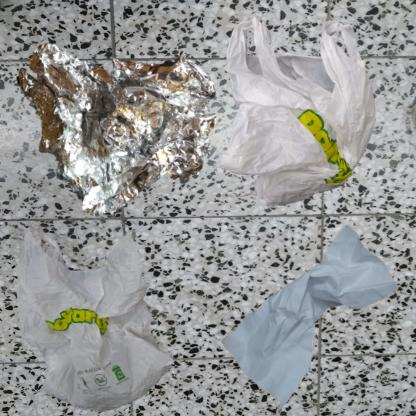aluminio: (10, 10, 243, 235)
bolsa: (213, 10, 387, 219), (10, 213, 181, 416)
papel: (213, 213, 407, 416)
